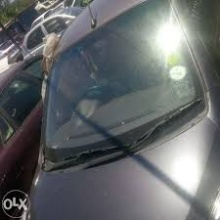no damage: (27, 1, 216, 220), (1, 51, 44, 196)
